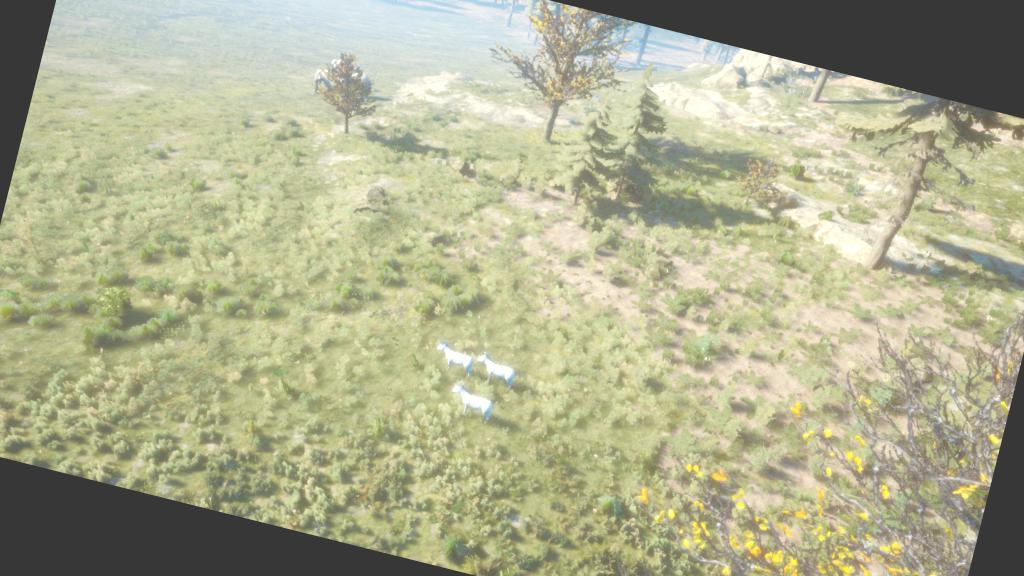zebra: (446, 382, 498, 424), (431, 340, 480, 380), (472, 353, 519, 391)
